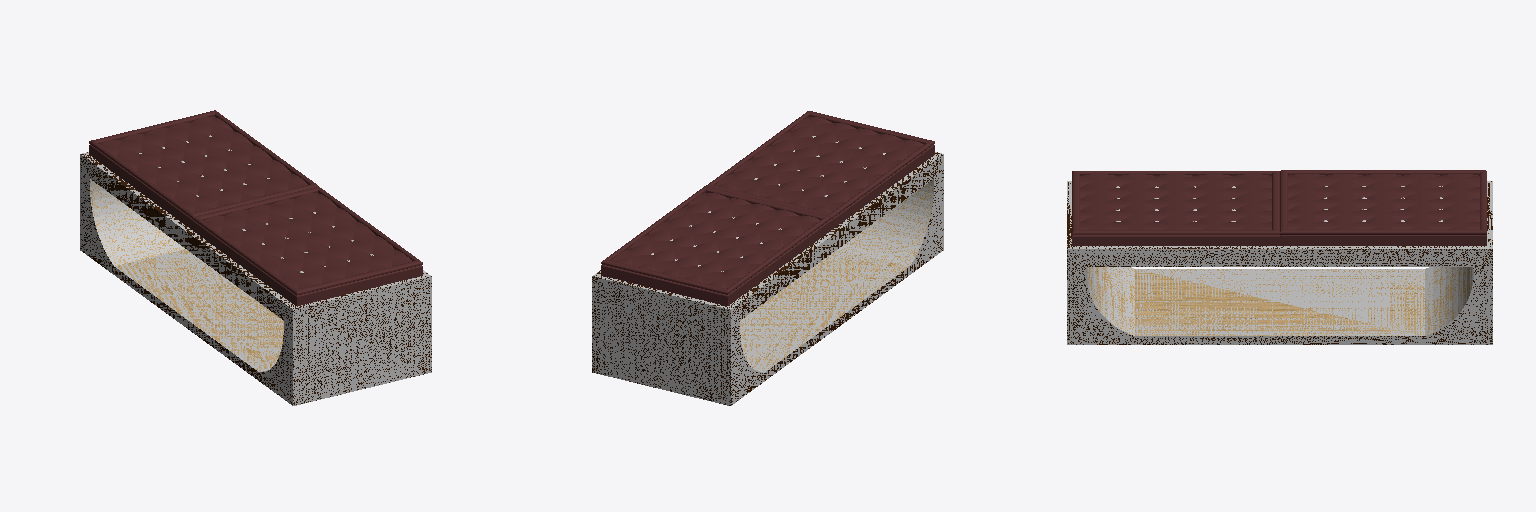
The picture shows the model from 3 angles: view 1: azimuth 30°, elevation 25°; view 2: azimuth 150°, elevation 25°; view 3: azimuth 270°, elevation 25°; orthographic projection.
Parts seen in each view (by area): view 1: mesh43_mesh43-geometry, mesh21.002_mesh21-geometry, mesh21.001_mesh21-geometry, mesh39.002_mesh39-geometry, mesh39.001_mesh39-geometry; view 2: mesh43_mesh43-geometry, mesh21.002_mesh21-geometry, mesh21.001_mesh21-geometry, mesh39.001_mesh39-geometry, mesh39.002_mesh39-geometry; view 3: mesh43_mesh43-geometry, mesh21.001_mesh21-geometry, mesh21.002_mesh21-geometry, mesh39.001_mesh39-geometry, mesh39.002_mesh39-geometry.
Part boxes in pixels (left/top/right/bottom): mesh43_mesh43-geometry: left=80, top=152, right=431, bottom=405; mesh21.002_mesh21-geometry: left=204, top=193, right=411, bottom=289; mesh21.001_mesh21-geometry: left=100, top=117, right=307, bottom=212; mesh39.002_mesh39-geometry: left=193, top=187, right=422, bottom=305; mesh39.001_mesh39-geometry: left=89, top=110, right=318, bottom=229; mesh43_mesh43-geometry: left=592, top=152, right=943, bottom=405; mesh21.002_mesh21-geometry: left=716, top=117, right=923, bottom=212; mesh21.001_mesh21-geometry: left=612, top=193, right=819, bottom=288; mesh39.001_mesh39-geometry: left=601, top=186, right=830, bottom=305; mesh39.002_mesh39-geometry: left=706, top=111, right=934, bottom=229; mesh43_mesh43-geometry: left=1067, top=181, right=1492, bottom=344; mesh21.001_mesh21-geometry: left=1288, top=174, right=1479, bottom=229; mesh21.002_mesh21-geometry: left=1080, top=174, right=1271, bottom=229; mesh39.001_mesh39-geometry: left=1280, top=170, right=1486, bottom=245; mesh39.002_mesh39-geometry: left=1072, top=171, right=1279, bottom=245.
Size of the model in its own units: 0.339 by 0.2601 by 0.9041.
4 materials, 2 textured.